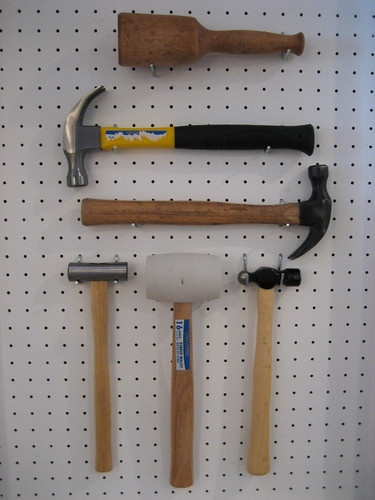hammer: (59, 84, 312, 189), (81, 162, 332, 258), (144, 253, 225, 486), (237, 267, 302, 476), (67, 260, 130, 472)
